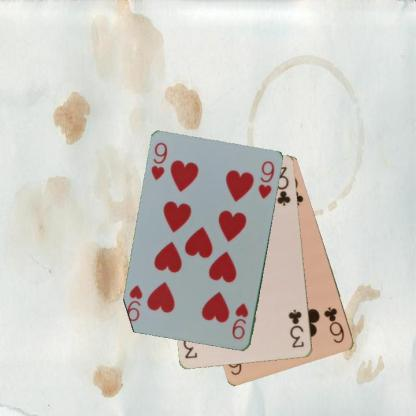3c: (286, 307, 306, 349)
6c: (321, 304, 346, 345)
9h: (148, 140, 168, 182), (230, 300, 250, 341)
